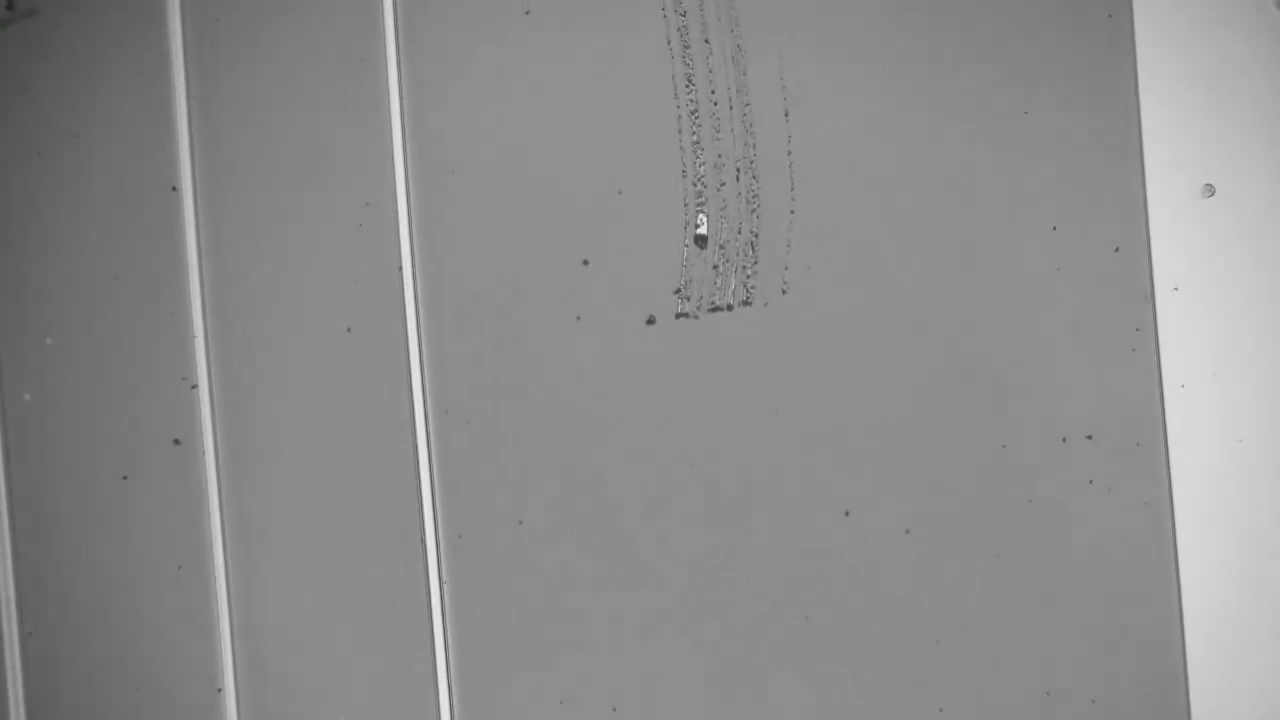scratch: (656, 1, 781, 325)
